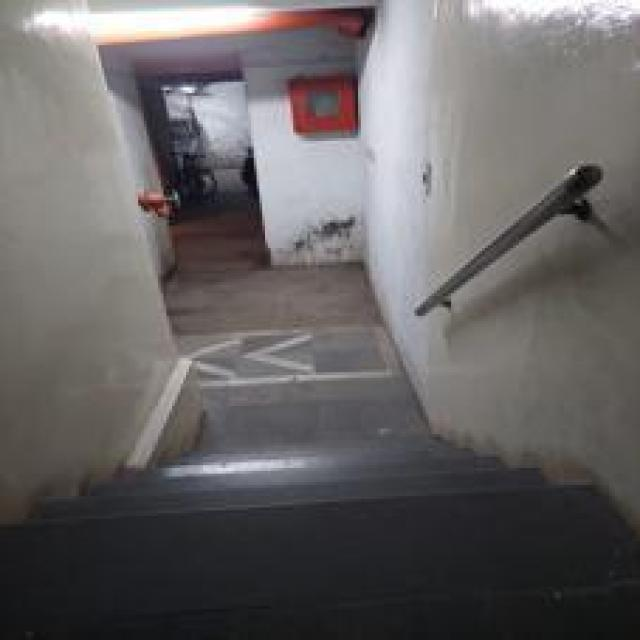stair: (113, 423, 516, 561)
